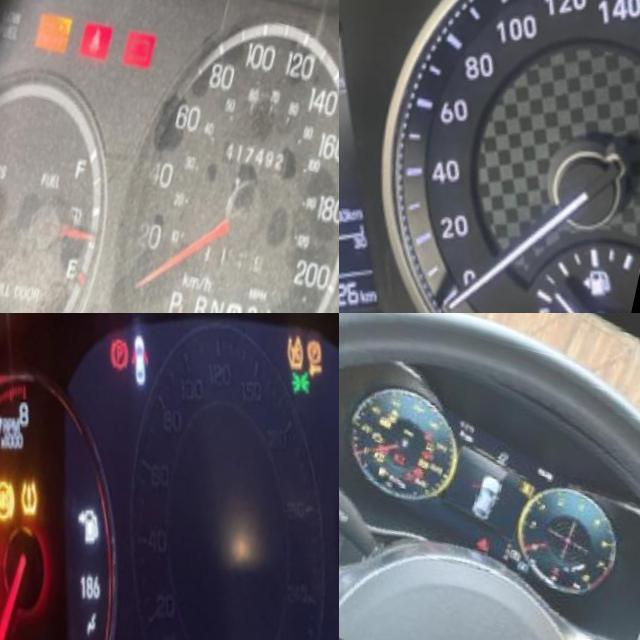Engine cooling system: (561, 535, 574, 548)
Low fuel level: (385, 447, 398, 460)
